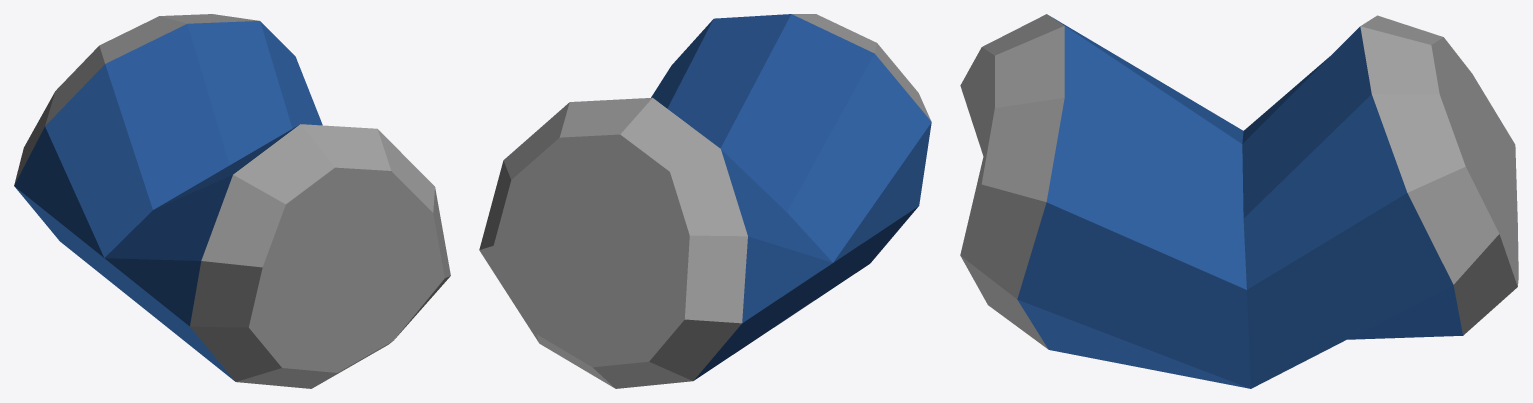
Rendered from can3.fbx.
3 renders of one model, left to right at view 1: azimuth 30°, elevation 25°; view 2: azimuth 150°, elevation 25°; view 3: azimuth 270°, elevation 25°, orthographic. The views are drawn at different scales.
Visible parts, largest first — view 1: Cylinder; view 2: Cylinder; view 3: Cylinder.
Boxes of the visible parts, x1,y1,x2,y2 form: Cylinder: [14, 14, 450, 388]; Cylinder: [479, 14, 931, 388]; Cylinder: [960, 14, 1518, 388].
Bounding box in the file's own units: 20.34 × 19.64 × 31.6.
